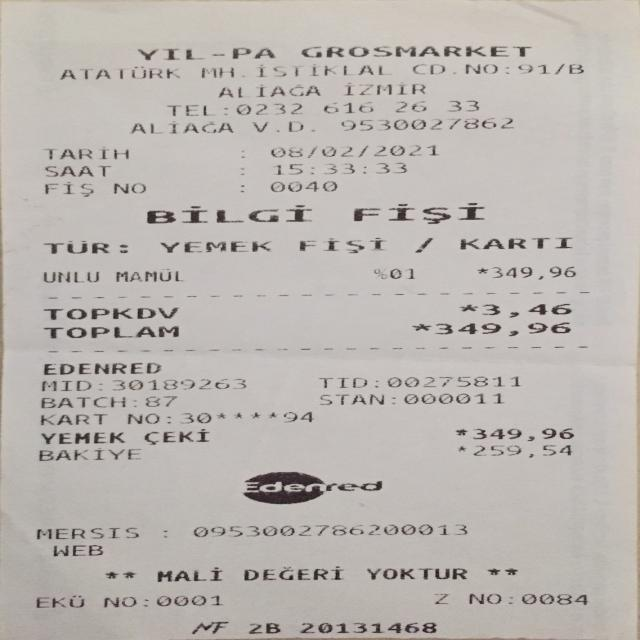text: (145, 200, 309, 225), (191, 522, 467, 536), (300, 43, 530, 59), (352, 199, 483, 224), (256, 60, 383, 79), (340, 116, 512, 130), (58, 61, 178, 81), (458, 232, 570, 252), (436, 320, 570, 336), (268, 145, 438, 157), (386, 374, 520, 389), (158, 236, 268, 254), (110, 377, 246, 391), (300, 620, 436, 634), (43, 306, 178, 320), (43, 324, 178, 338), (242, 564, 342, 582), (35, 523, 138, 540), (473, 442, 573, 459), (298, 234, 382, 254), (216, 82, 320, 98), (42, 361, 160, 375), (37, 446, 139, 462), (366, 564, 466, 580), (275, 162, 406, 174), (128, 119, 232, 134), (473, 426, 569, 442), (242, 480, 380, 491), (402, 391, 503, 405), (40, 429, 124, 445), (342, 80, 425, 96), (480, 302, 572, 316), (154, 564, 220, 582), (490, 265, 574, 279), (136, 44, 199, 62), (45, 146, 123, 160), (38, 410, 106, 426), (238, 100, 305, 116), (41, 395, 120, 408), (141, 428, 208, 443), (251, 118, 313, 134), (154, 592, 220, 607), (115, 268, 182, 282), (524, 591, 586, 606), (44, 163, 110, 177), (318, 392, 383, 406), (40, 241, 110, 254), (170, 101, 218, 118), (322, 99, 373, 115), (268, 180, 336, 192), (230, 44, 274, 62), (41, 268, 97, 282), (43, 181, 93, 196), (317, 375, 366, 390), (38, 378, 90, 392), (35, 593, 83, 608), (52, 542, 102, 556), (188, 619, 228, 635), (202, 60, 233, 80), (371, 266, 414, 280), (447, 97, 478, 114), (124, 410, 159, 425), (103, 592, 135, 608), (282, 408, 312, 424), (396, 98, 424, 115), (112, 181, 144, 195), (179, 410, 211, 424), (468, 591, 500, 605), (248, 620, 279, 634), (144, 394, 176, 407), (467, 61, 496, 74), (412, 62, 442, 74), (517, 62, 546, 74), (239, 60, 256, 80), (412, 320, 431, 336), (569, 57, 583, 78), (413, 238, 434, 252), (458, 303, 478, 317), (220, 100, 234, 118), (456, 442, 469, 459), (456, 426, 469, 442), (433, 591, 446, 605), (212, 44, 222, 62), (556, 58, 565, 78), (118, 236, 127, 256), (476, 265, 488, 280), (133, 393, 145, 408), (510, 591, 518, 605), (96, 377, 102, 393), (142, 592, 147, 608), (162, 522, 166, 540), (166, 410, 171, 424), (373, 374, 377, 390), (239, 145, 243, 160), (391, 391, 395, 406), (239, 163, 243, 177), (239, 181, 243, 193)
